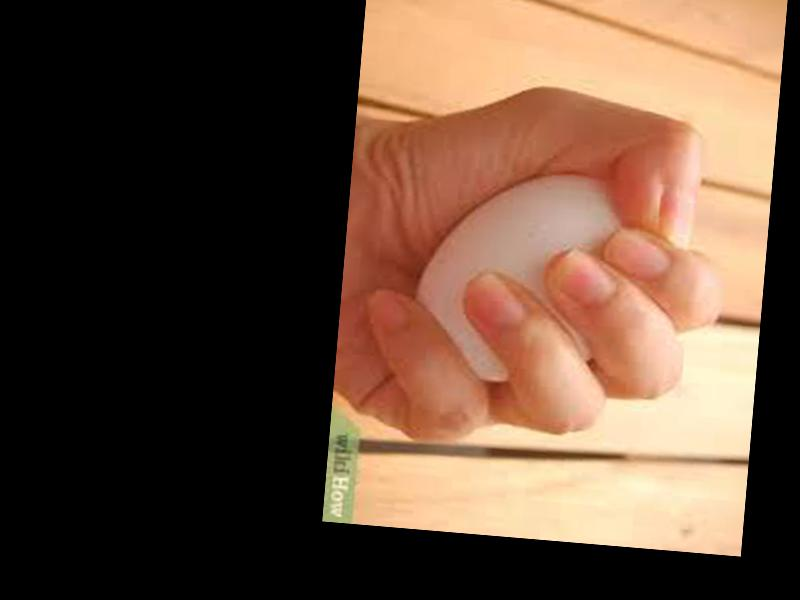Eggs: (409, 162, 647, 396)
